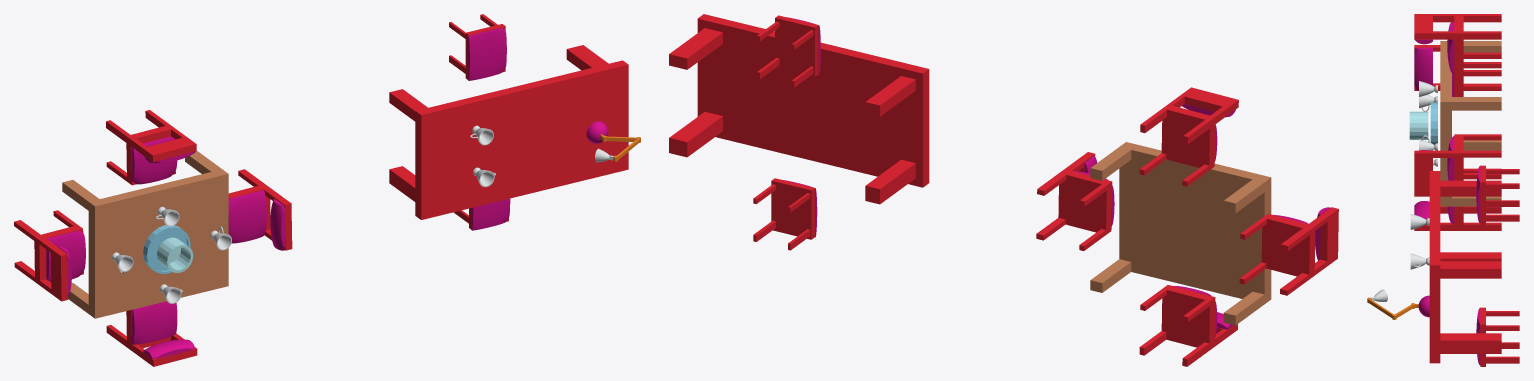
The model's file is table.obj.
3 views of the same model, side by side, from view 1: azimuth 30°, elevation 25°; view 2: azimuth 150°, elevation 25°; view 3: azimuth 270°, elevation 25° (orthographic). The views are drawn at different scales.
Visible parts, largest first — view 1: group_0_15277357, group_0_13205849, group_0_14093196, group_0_14541540, group_0_8768998, group_0_11593967; view 2: group_0_15277357, group_0_13205849, group_0_14093196; view 3: group_0_15277357, group_0_13205849, group_0_14093196, group_0_14541540, group_0_11593967, group_0_8768998, group_0_16089887.
Part boxes in pixels (left/top/right/bottom): group_0_15277357: left=14, top=14, right=628, bottom=366; group_0_13205849: left=62, top=151, right=228, bottom=318; group_0_14093196: left=46, top=27, right=608, bottom=358; group_0_14541540: left=112, top=125, right=613, bottom=303; group_0_8768998: left=143, top=225, right=190, bottom=273; group_0_11593967: left=157, top=237, right=193, bottom=272; group_0_15277357: left=669, top=14, right=1338, bottom=366; group_0_13205849: left=1090, top=142, right=1271, bottom=325; group_0_14093196: left=783, top=17, right=1330, bottom=338; group_0_15277357: left=1414, top=14, right=1519, bottom=366; group_0_13205849: left=1440, top=41, right=1501, bottom=206; group_0_14093196: left=1414, top=22, right=1480, bottom=364; group_0_14541540: left=1371, top=81, right=1437, bottom=301; group_0_11593967: left=1409, top=111, right=1428, bottom=139; group_0_8768998: left=1430, top=102, right=1437, bottom=144; group_0_16089887: left=1367, top=297, right=1418, bottom=319.
Size of the model in its own units: 172 by 63 by 42.24.
